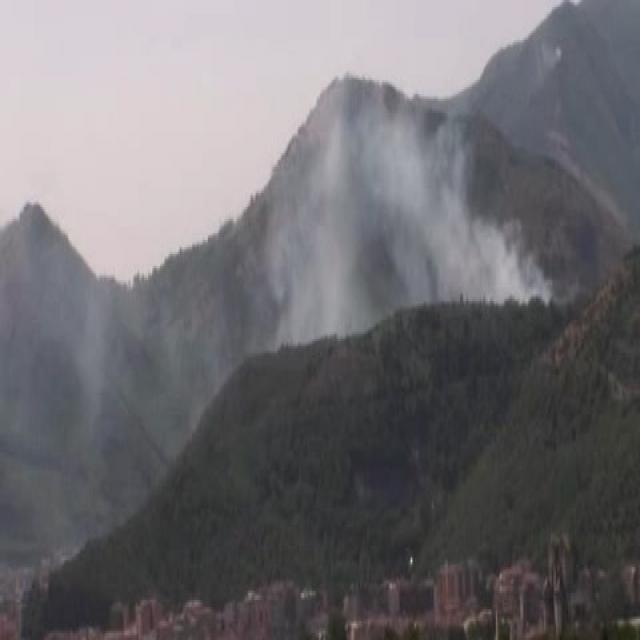smoke: (291, 125, 478, 334)
